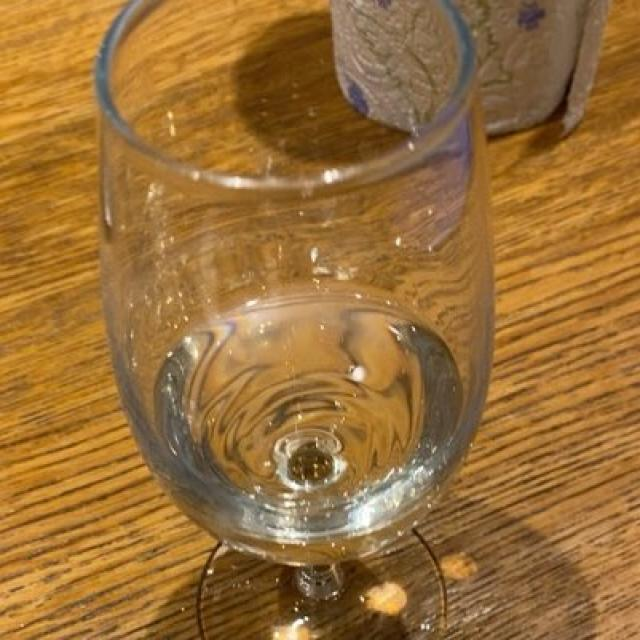wine-white: (162, 285, 478, 564)
